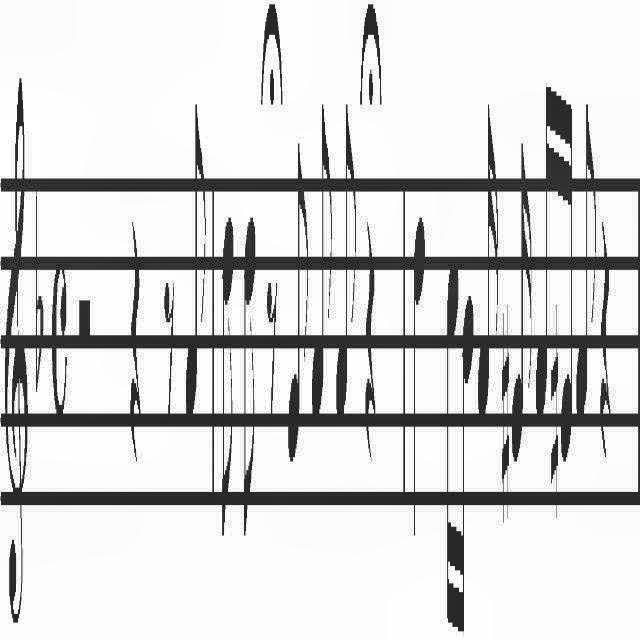Bass-clef: (3, 42, 31, 640)
Bemol: (32, 168, 46, 416)
Diez: (550, 293, 560, 539), (500, 290, 510, 522)
Eighth-note: (286, 128, 310, 476), (335, 81, 357, 446), (184, 103, 208, 433), (312, 74, 332, 453), (576, 80, 596, 438), (242, 167, 258, 593), (218, 192, 236, 568)
Eighth-rest: (160, 271, 180, 449), (265, 250, 279, 440)
Quarter-note: (408, 193, 430, 579)
Quarter-rest: (125, 184, 145, 556), (359, 188, 381, 476), (598, 179, 612, 546)
Sixteenth-note: (477, 94, 499, 450), (511, 150, 533, 476), (444, 236, 460, 640), (561, 58, 575, 494), (460, 262, 476, 640), (534, 84, 550, 420)
